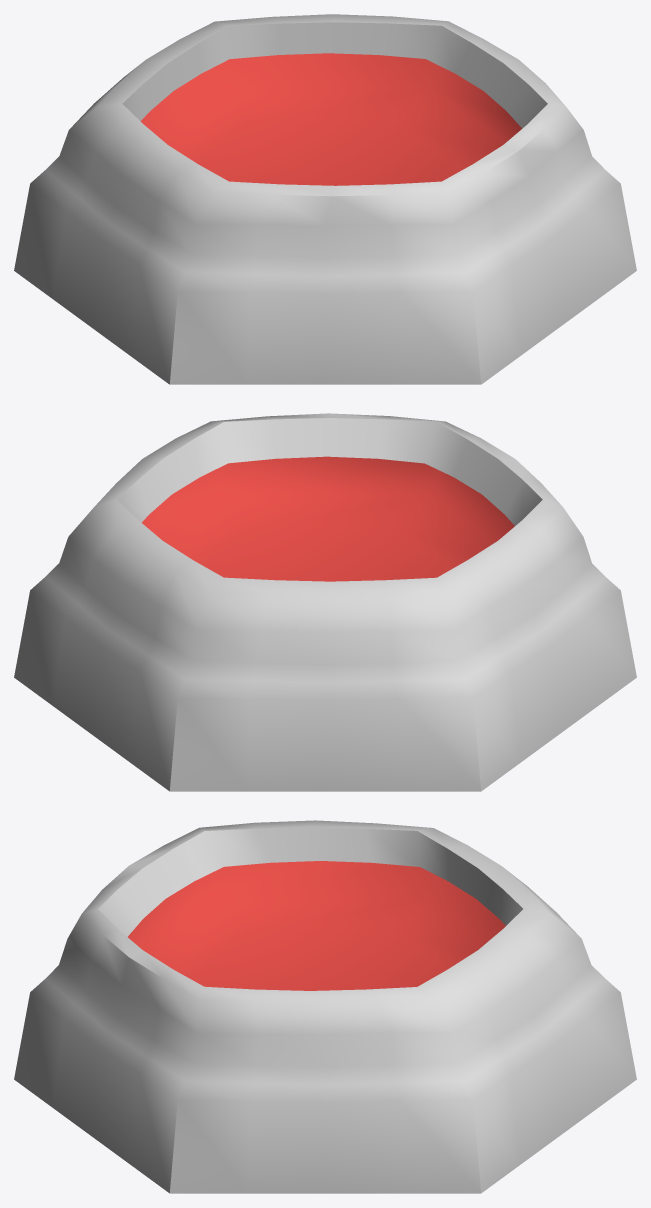
File: cell.fbx
3 renders of one model, top to bottom at view 1: azimuth 30°, elevation 25°; view 2: azimuth 150°, elevation 25°; view 3: azimuth 270°, elevation 25°, orthographic.
Visible parts, largest first — view 1: Sphere.002; view 2: Sphere.002; view 3: Sphere.002.
Boxes of the visible parts, bbox=[...] form: Sphere.002: bbox=[14, 14, 636, 384]; Sphere.002: bbox=[14, 413, 636, 791]; Sphere.002: bbox=[14, 820, 636, 1193].
Bounding box in the file's own units: 173 × 60.87 × 200.
